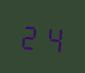four: (42, 20, 64, 54)
two: (19, 18, 41, 52)
